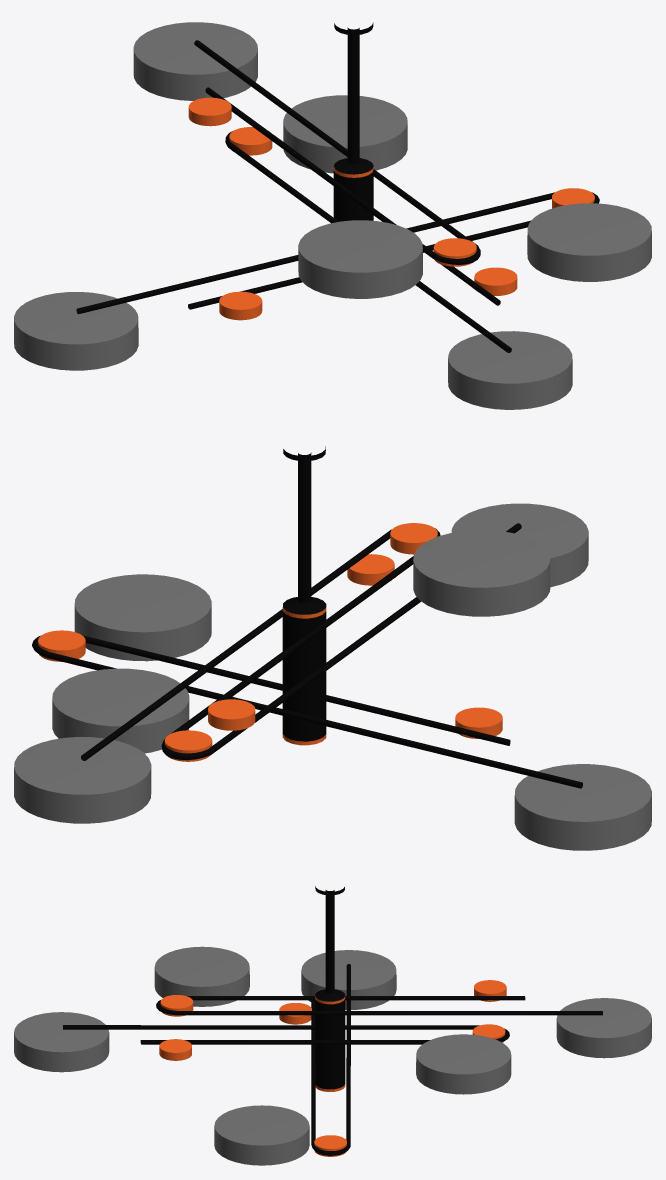
The model's file is zyrandol.fbx.
3 views of the same model, one above another, from view 1: azimuth 30°, elevation 25°; view 2: azimuth 150°, elevation 25°; view 3: azimuth 270°, elevation 25° (orthographic). The views are drawn at different scales.
Visible parts, largest first — view 1: zyrandol; view 2: zyrandol; view 3: zyrandol.
Part boxes in pixels (x1,y1,x2,y2): zyrandol: (14,22,651,409); zyrandol: (14,446,651,850); zyrandol: (14,886,651,1165).
Size of the model in its own units: 167 by 75.26 by 214.
